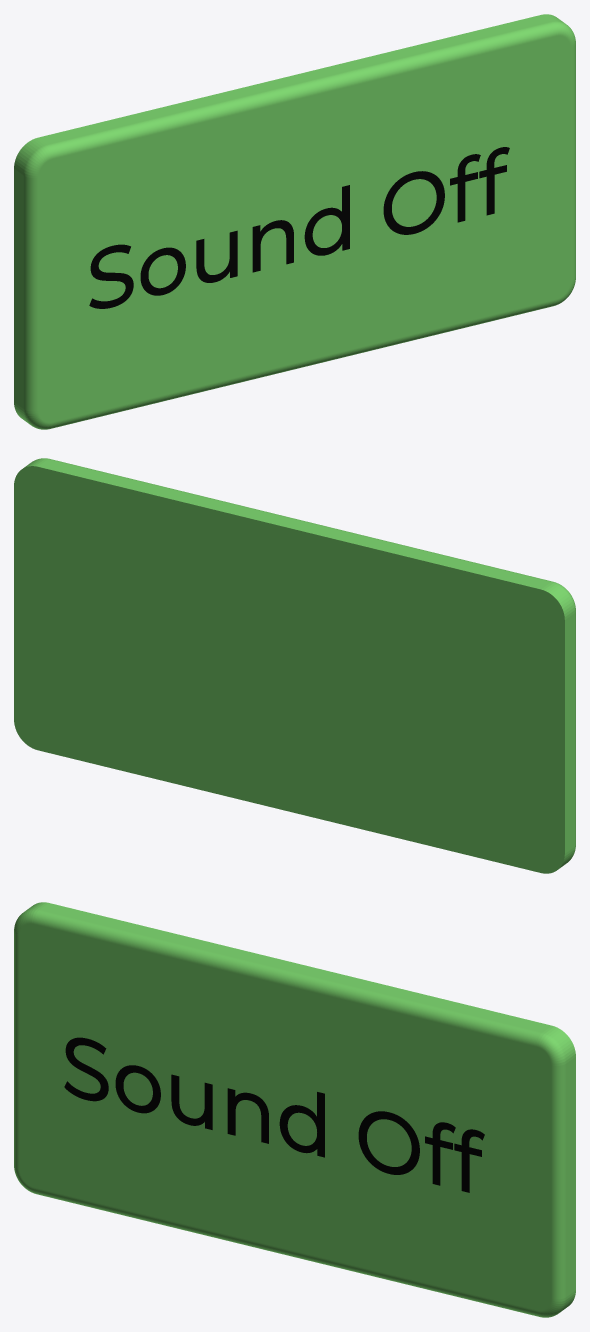
File: SoundOff.glb
3 views of the same model, one above another, from view 1: azimuth 30°, elevation 25°; view 2: azimuth 150°, elevation 25°; view 3: azimuth 330°, elevation 25° (orthographic).
Visible parts, largest first — view 1: ButtonNext.005; view 2: ButtonNext.005; view 3: ButtonNext.005.
Part boxes in pixels (left/top/right/bottom): ButtonNext.005: left=14, top=14, right=575, bottom=429; ButtonNext.005: left=14, top=458, right=575, bottom=873; ButtonNext.005: left=14, top=902, right=575, bottom=1317.
Size of the model in its own units: 0.5208 by 0.2562 by 0.0296.
Materials: 2 (2 with a texture image).
